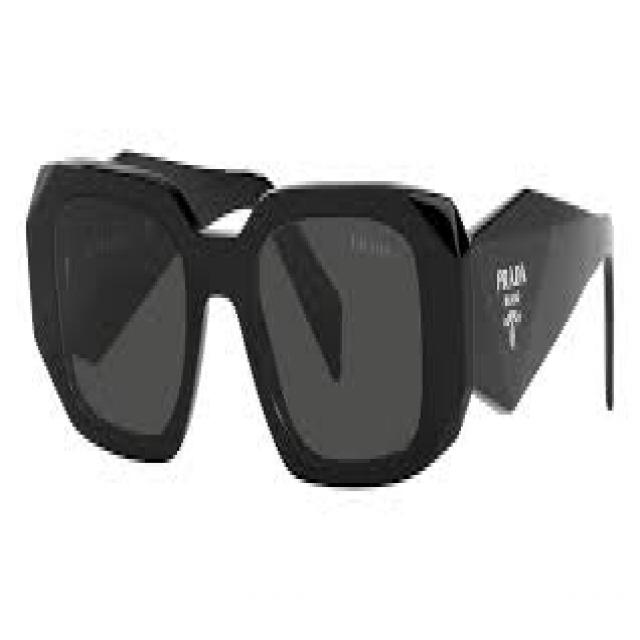suspicious-objects: (25, 119, 466, 489)
